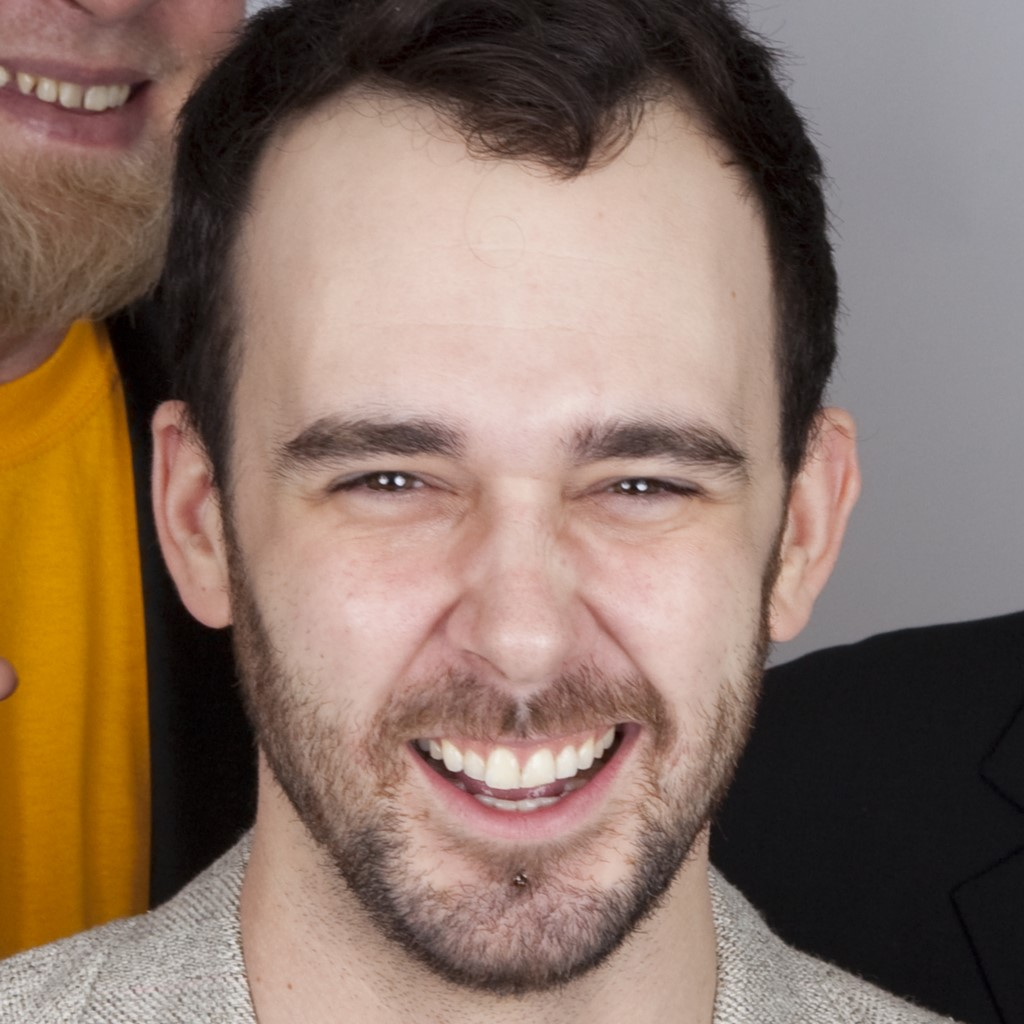sin_mascara: (235, 112, 775, 981)
